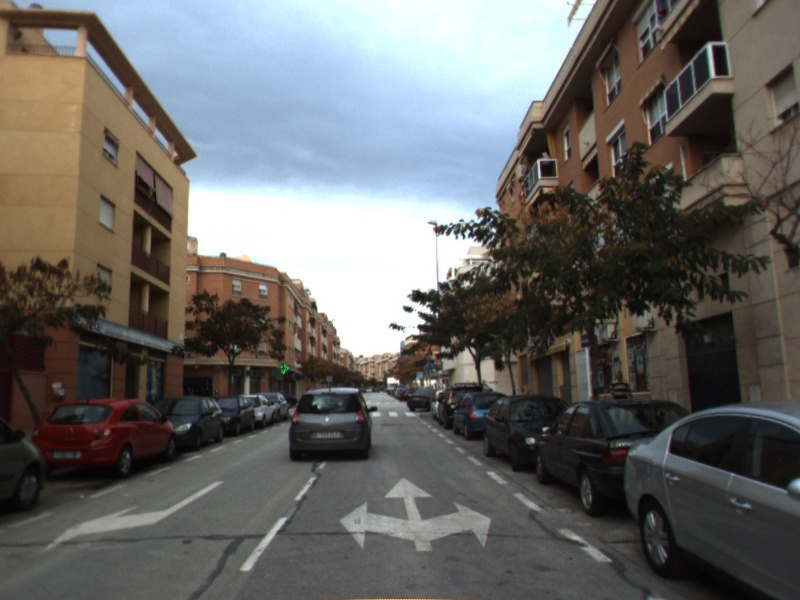STRAIGHT_LEFT_RIGHT: (337, 475, 494, 554)
